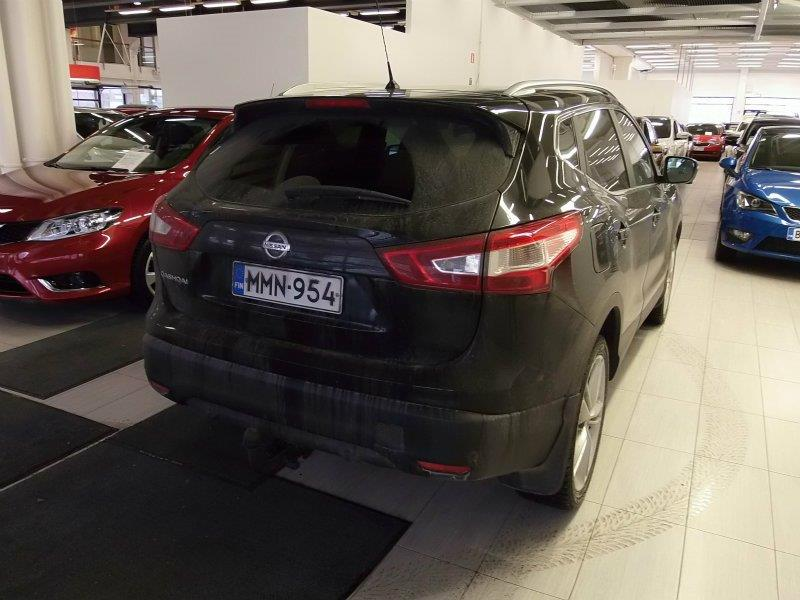license: (232, 255, 344, 324)
